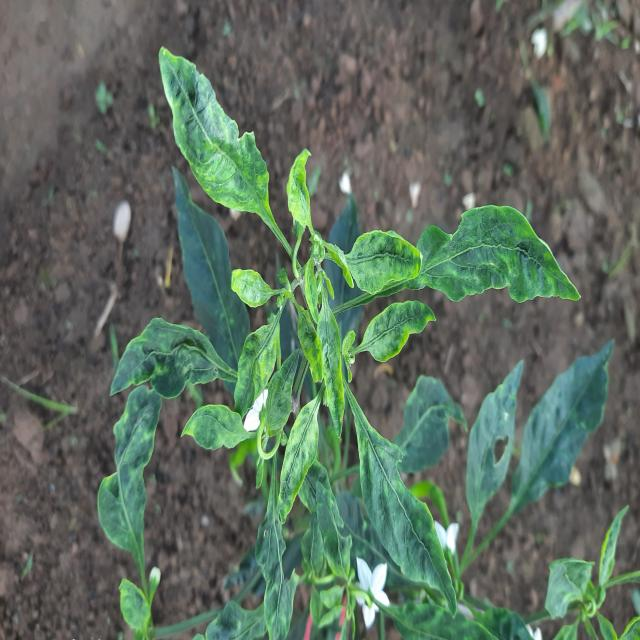thrips: (276, 397, 323, 533), (358, 307, 442, 371), (346, 226, 416, 296), (318, 297, 352, 441), (282, 148, 319, 245), (225, 258, 272, 317)
